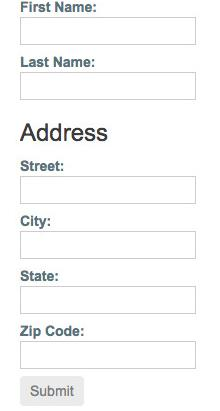button: (19, 375, 87, 407)
field: (18, 174, 197, 206), (18, 15, 197, 46), (17, 285, 196, 315), (19, 71, 197, 101), (18, 230, 196, 260), (19, 340, 197, 370)
